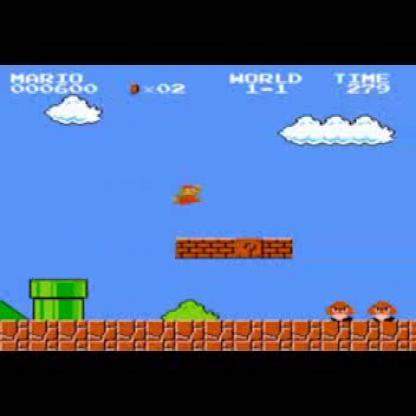Goomba: (366, 298, 398, 320), (325, 299, 353, 320)
